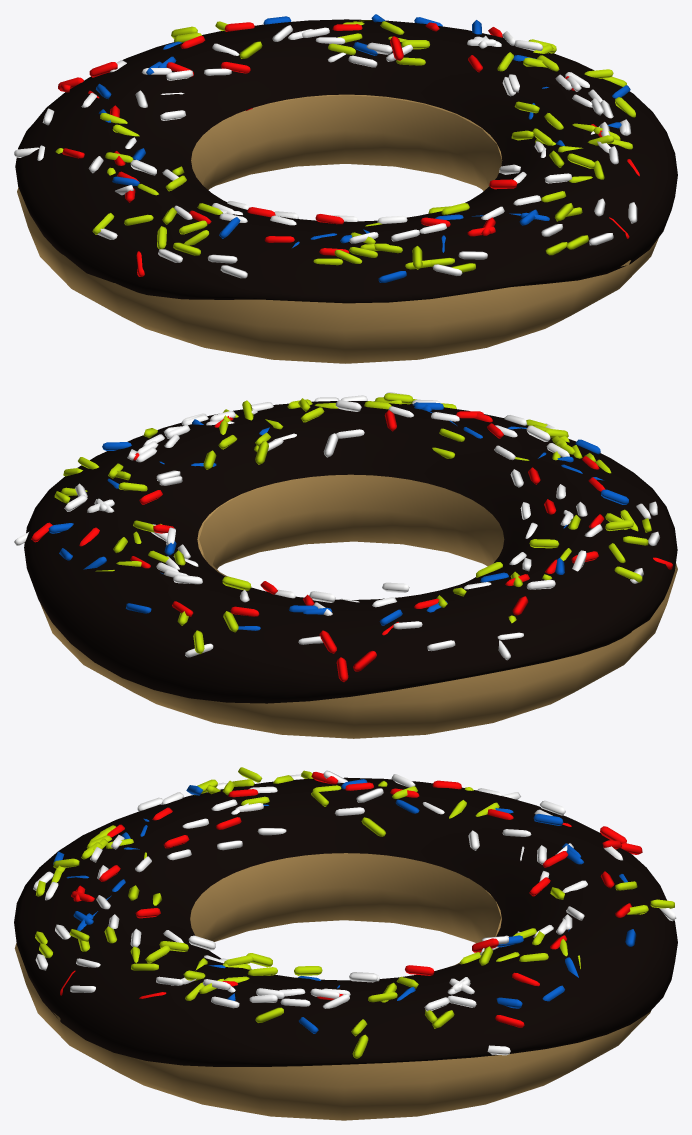
Rendered from NewDonut.FBX.
The picture shows the model from 3 angles, top to bottom: view 1: azimuth 30°, elevation 25°; view 2: azimuth 150°, elevation 25°; view 3: azimuth 270°, elevation 25°; orthographic projection.
Parts seen in each view (by area): view 1: Torus001; view 2: Torus001; view 3: Torus001.
Boxes of the visible parts, x1,y1,x2,y2 form: Torus001: (14,14,677,363); Torus001: (14,392,677,738); Torus001: (14,767,677,1120).
Size of the model in its own units: 26.19 by 5.79 by 26.19.
